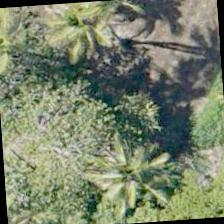Kelapa_Sawit: (80, 133, 177, 223), (42, 0, 137, 71), (0, 4, 53, 86)
